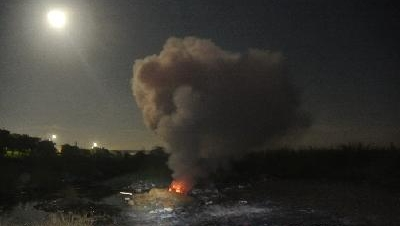山火: (167, 180, 186, 193)
烟雾: (131, 35, 316, 194)
